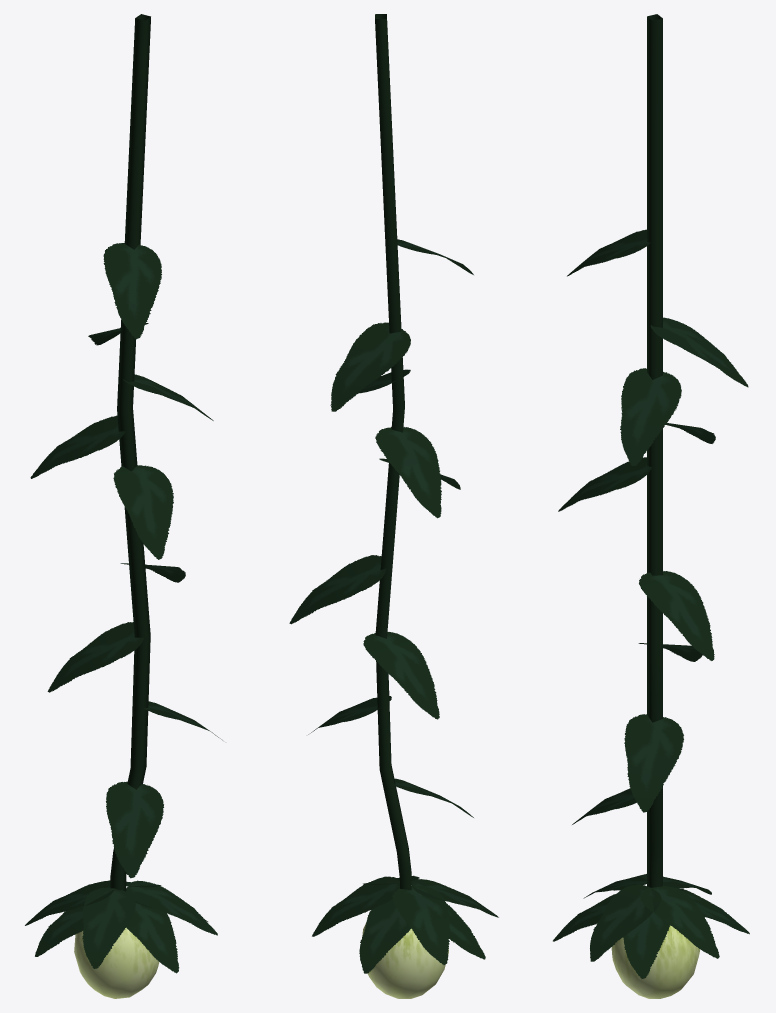
Rendered from PRM Bulb Vine.fbx.
3 views of the same model, side by side, from view 1: azimuth 30°, elevation 25°; view 2: azimuth 150°, elevation 25°; view 3: azimuth 270°, elevation 25° (orthographic).
Visible parts, largest first — view 1: Bulb Vine; view 2: Bulb Vine; view 3: Bulb Vine.
Part boxes in pixels (x1,y1,x2,y2): Bulb Vine: (25,14,222,998); Bulb Vine: (289,14,498,998); Bulb Vine: (553,14,749,998).
Size of the model in its own units: 527 by 2440 by 487.
